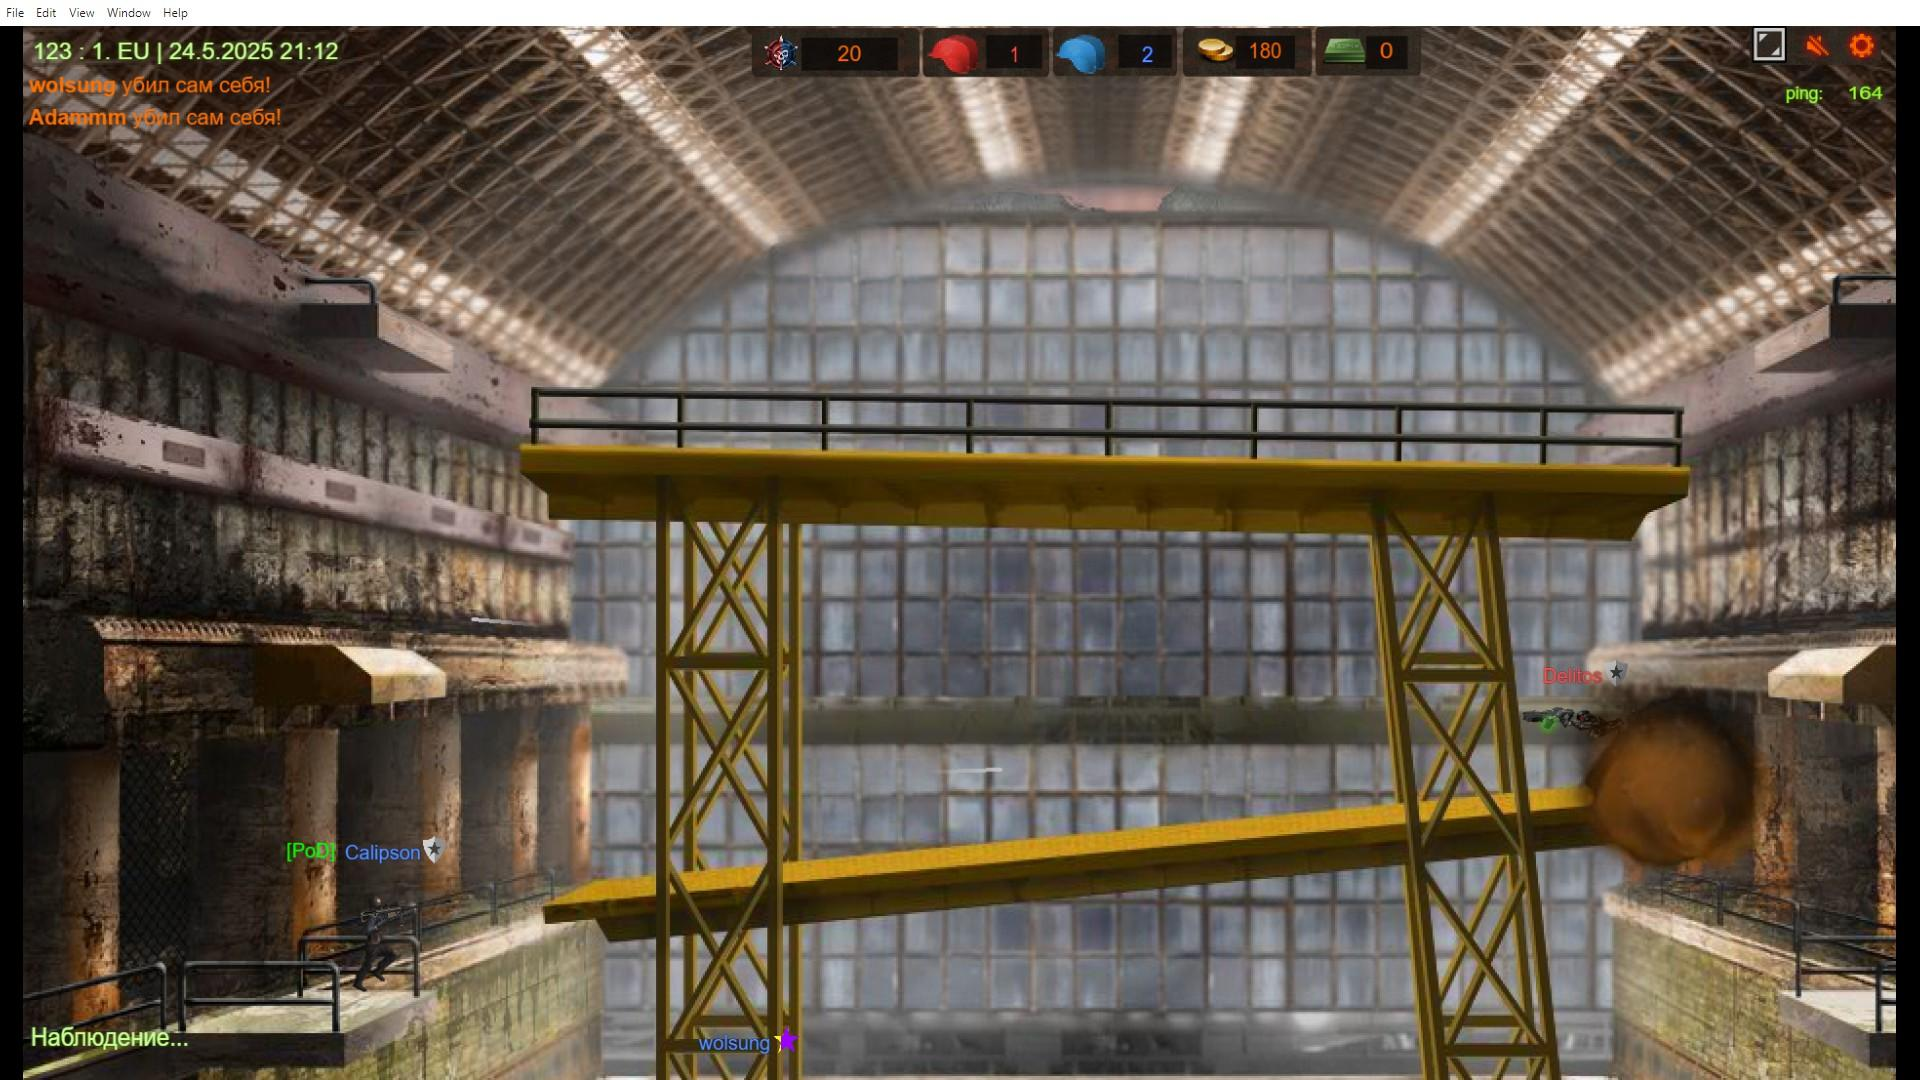enemy: (363, 901, 388, 989), (1577, 707, 1650, 733)
